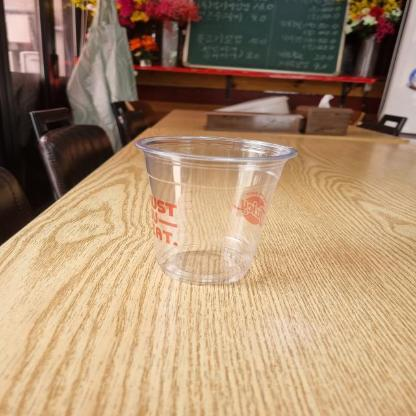Plastic Cup: (135, 134, 293, 286)
